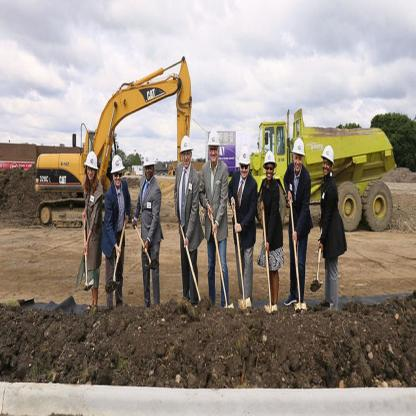person: (314, 121, 346, 317), (228, 117, 258, 322), (201, 114, 230, 316), (170, 134, 199, 316), (78, 141, 104, 325), (133, 151, 159, 317), (258, 147, 282, 322), (285, 135, 306, 328), (102, 146, 125, 318)
